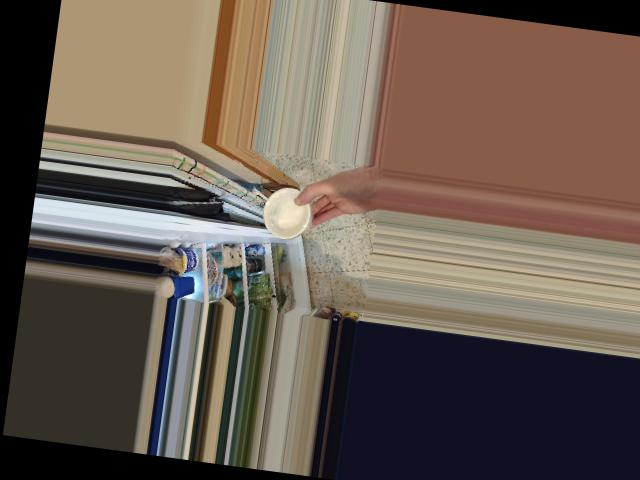cotage: (256, 186, 314, 242)
